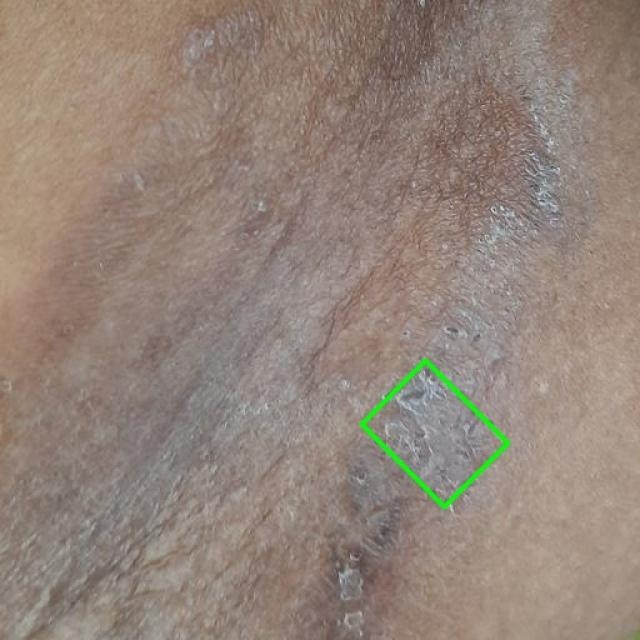Contact Dermatitis: (361, 360, 508, 506)
